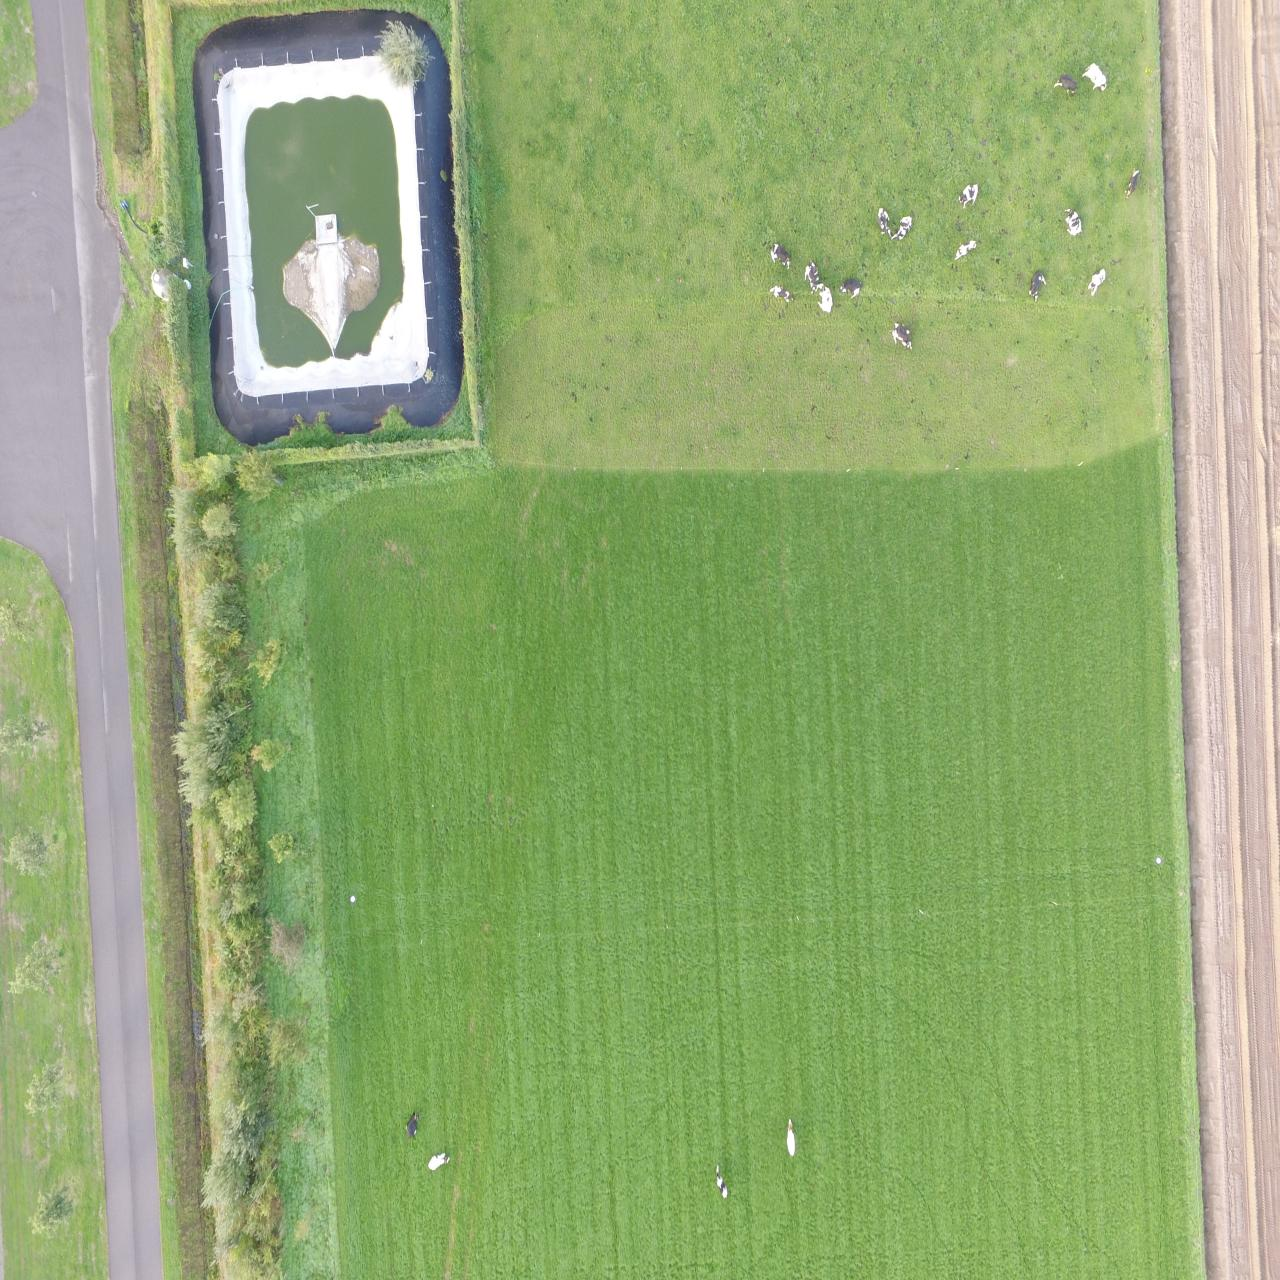cow: (767, 241, 794, 271), (888, 320, 913, 352), (1085, 261, 1108, 295), (1028, 267, 1048, 301), (712, 1164, 729, 1201), (1063, 206, 1083, 238), (891, 213, 912, 243), (803, 259, 823, 290), (1053, 72, 1078, 95), (1084, 63, 1107, 90), (956, 182, 978, 209), (951, 238, 978, 259), (783, 1116, 796, 1157), (876, 206, 892, 238), (771, 284, 796, 304), (1123, 168, 1138, 199), (818, 286, 835, 314), (839, 278, 862, 298), (404, 1111, 420, 1139), (429, 1152, 449, 1172)
